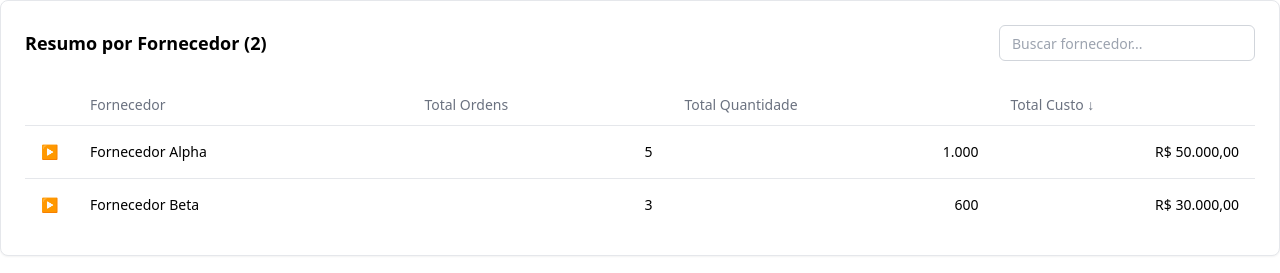
SupplierSummaryTable › should filter suppliers by search term
Type "Beta" into the field with placeholder "Buscar fornecedor..." at (1127, 43), box [999,25,1255,61]
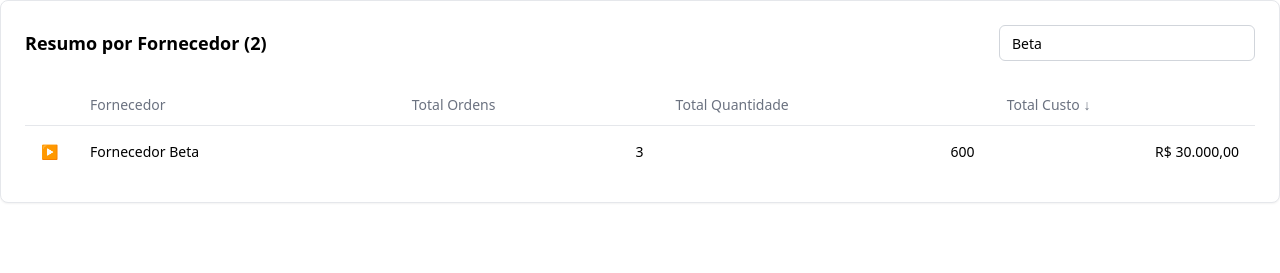
Check: the text "Fornecedor Beta" is shown, box [74,125,396,178]
Check: the text "Fornecedor Alpha" is gone
